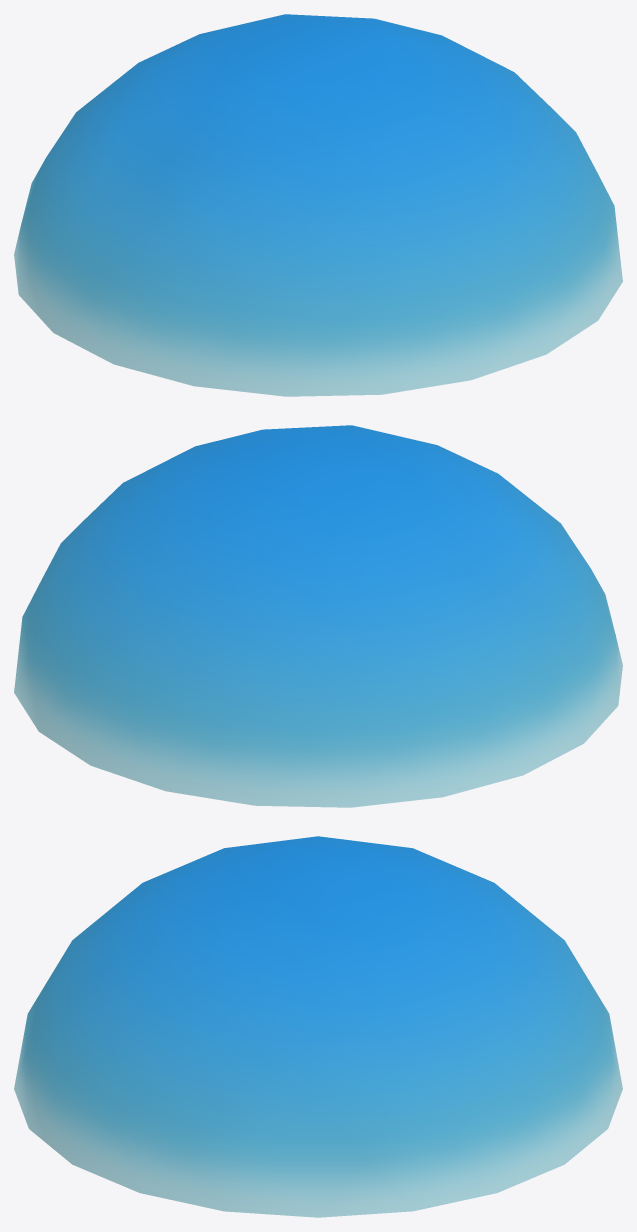
The model's file is sky.gltf.
The picture shows the model from 3 angles, top to bottom: view 1: azimuth 30°, elevation 25°; view 2: azimuth 150°, elevation 25°; view 3: azimuth 270°, elevation 25°; orthographic projection.
Visible parts, largest first — view 1: SM_Generic_SkyDome_01_Night_Scene.1375_PolygonShops_Sky_01_D, SM_Generic_SkyDome_01_Day_Scene.1375_PolygonShops_Sky_01_Day; view 2: SM_Generic_SkyDome_01_Day_Scene.1375_PolygonShops_Sky_01_Day, SM_Generic_SkyDome_01_Night_Scene.1375_PolygonShops_Sky_01_D; view 3: SM_Generic_SkyDome_01_Day_Scene.1375_PolygonShops_Sky_01_Day, SM_Generic_SkyDome_01_Night_Scene.1375_PolygonShops_Sky_01_D.
Part boxes in pixels (x1=…): SM_Generic_SkyDome_01_Night_Scene.1375_PolygonShops_Sky_01_D: x1=20, y1=16, x2=622, y2=395; SM_Generic_SkyDome_01_Day_Scene.1375_PolygonShops_Sky_01_Day: x1=14, y1=14, x2=607, y2=396; SM_Generic_SkyDome_01_Day_Scene.1375_PolygonShops_Sky_01_Day: x1=14, y1=426, x2=622, y2=807; SM_Generic_SkyDome_01_Night_Scene.1375_PolygonShops_Sky_01_D: x1=21, y1=425, x2=622, y2=806; SM_Generic_SkyDome_01_Day_Scene.1375_PolygonShops_Sky_01_Day: x1=14, y1=850, x2=622, y2=1217; SM_Generic_SkyDome_01_Night_Scene.1375_PolygonShops_Sky_01_D: x1=14, y1=836, x2=622, y2=1210.
Bounding box in the file's own units: 576 × 228 × 576.
Materials: 4 (3 with a texture image).
